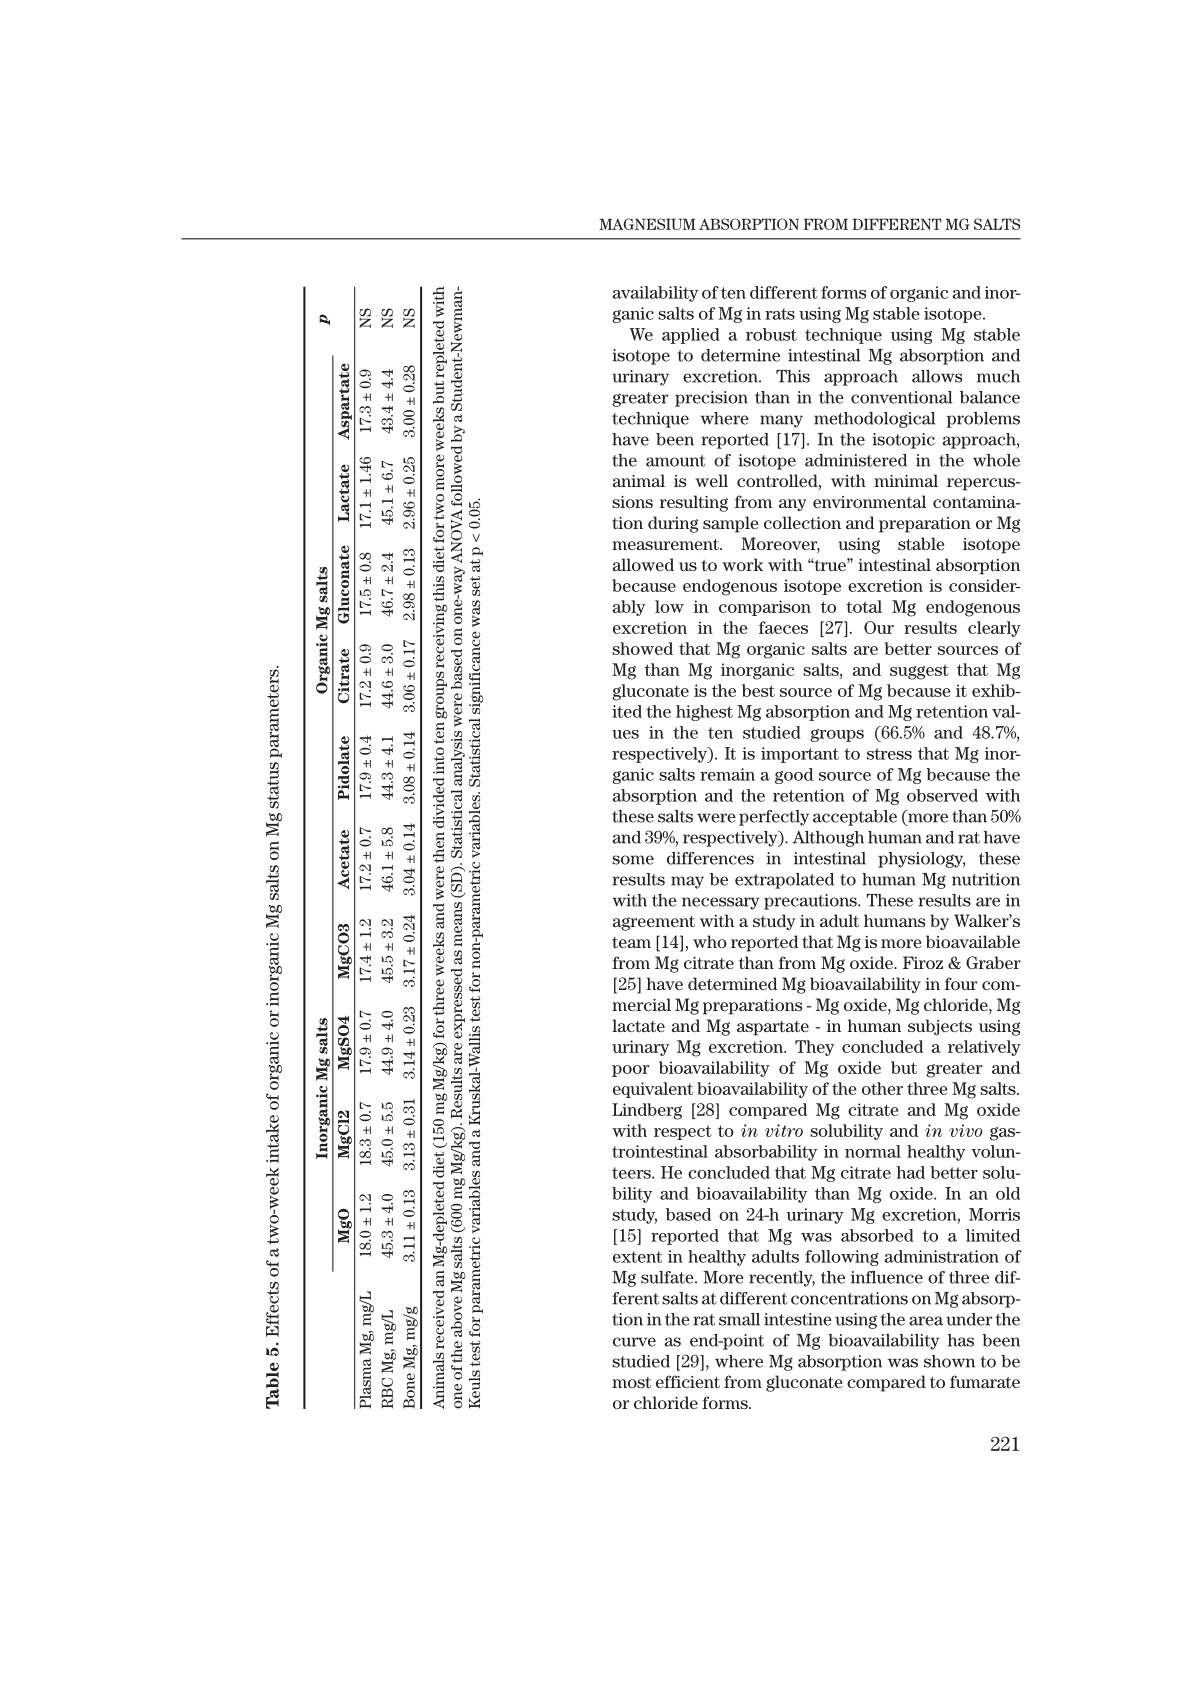partial_lined_merged_cells: (301, 285, 424, 1408)
